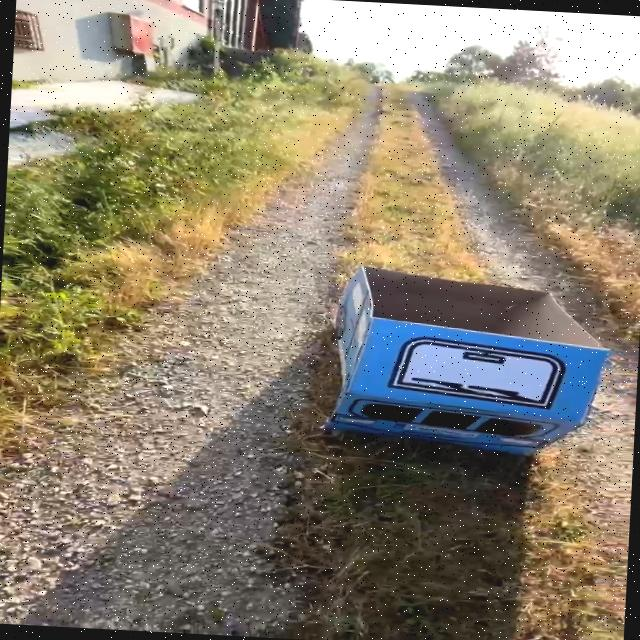blue_car: (223, 236, 640, 488)
